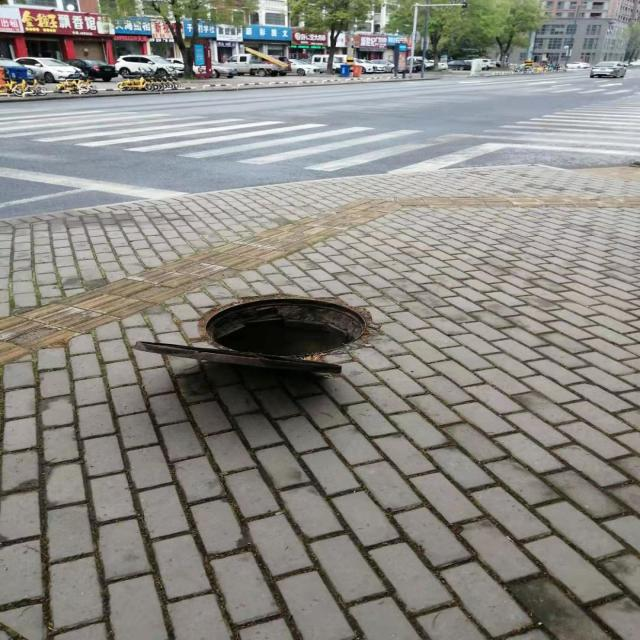Lose: (131, 295, 374, 381)
